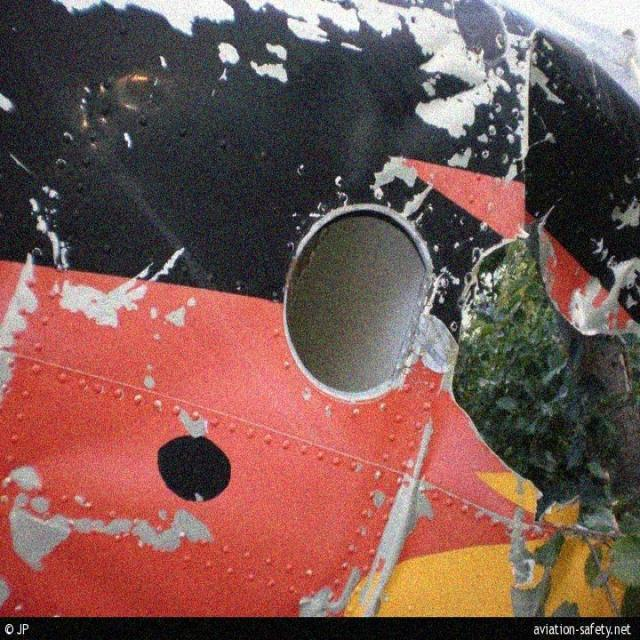dent: (3, 422, 161, 507), (289, 52, 381, 183), (384, 87, 432, 156)
